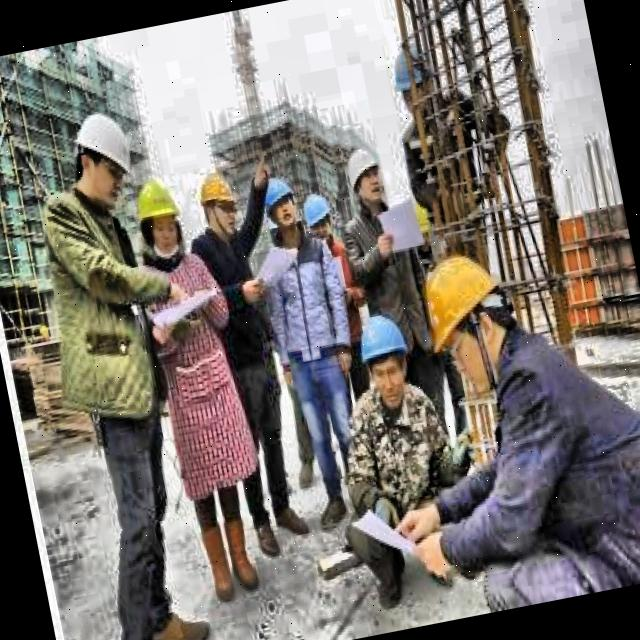helmet: (416, 239, 528, 385), (58, 100, 144, 214), (352, 306, 419, 408), (127, 167, 190, 266), (384, 30, 436, 129), (340, 134, 394, 222), (195, 165, 243, 241), (258, 172, 302, 240), (298, 184, 340, 246)
